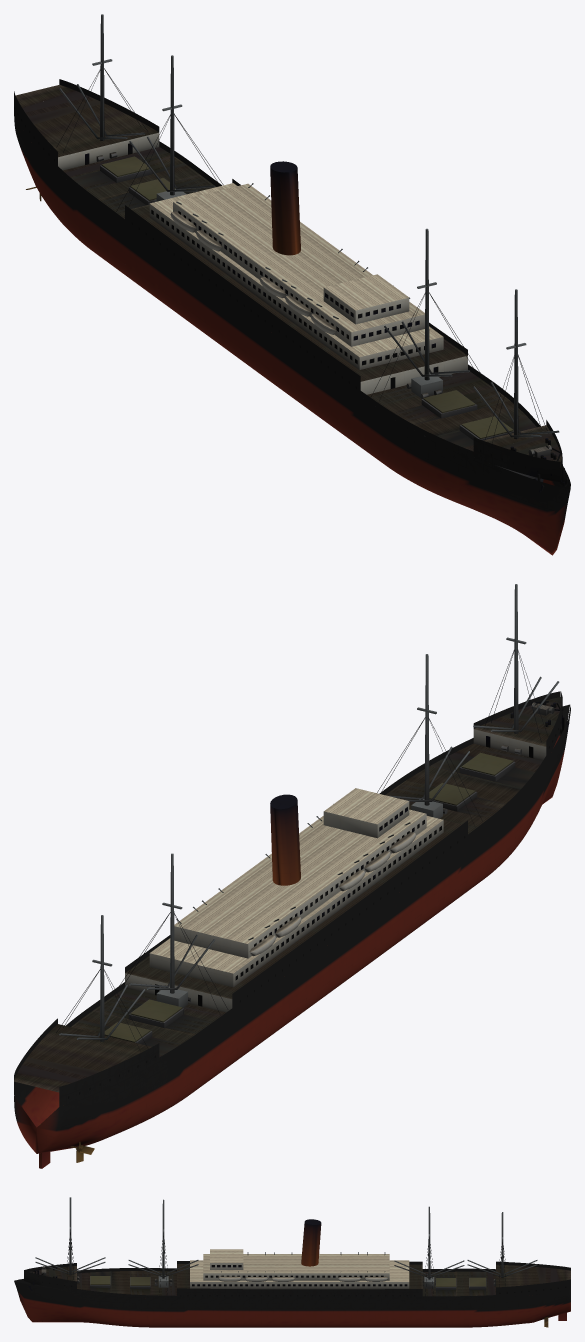
The model's file is model_built.glb.
The picture shows the model from 3 angles, top to bottom: view 1: azimuth 30°, elevation 25°; view 2: azimuth 150°, elevation 25°; view 3: azimuth 270°, elevation 25°; orthographic projection. The views are drawn at different scales.
Parts seen in each view (by area): view 1: main; view 2: main; view 3: main.
Part boxes in pixels (x1,y1,x2,y2): main: (14,14,570,555); main: (14,584,570,1168); main: (14,1197,570,1327).
Size of the model in its own units: 19.62 by 41.44 by 168.
Materials: 2 (2 with a texture image).
